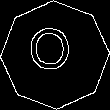O_S: (32, 29, 78, 81)
